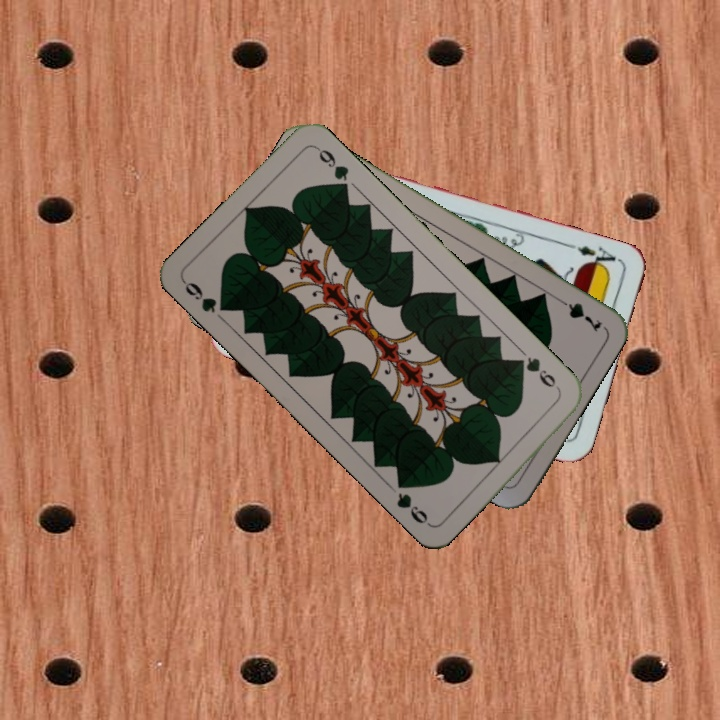EA: (566, 240, 624, 273)
G7: (551, 293, 605, 335)
G9: (512, 352, 564, 395), (179, 277, 233, 316)
